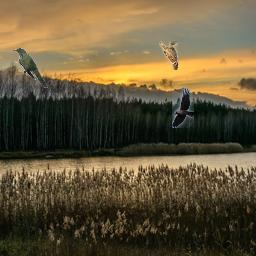Crow: (172, 88, 194, 128)
Cuckoo: (13, 48, 49, 88)
Sparrow: (159, 41, 178, 70)
